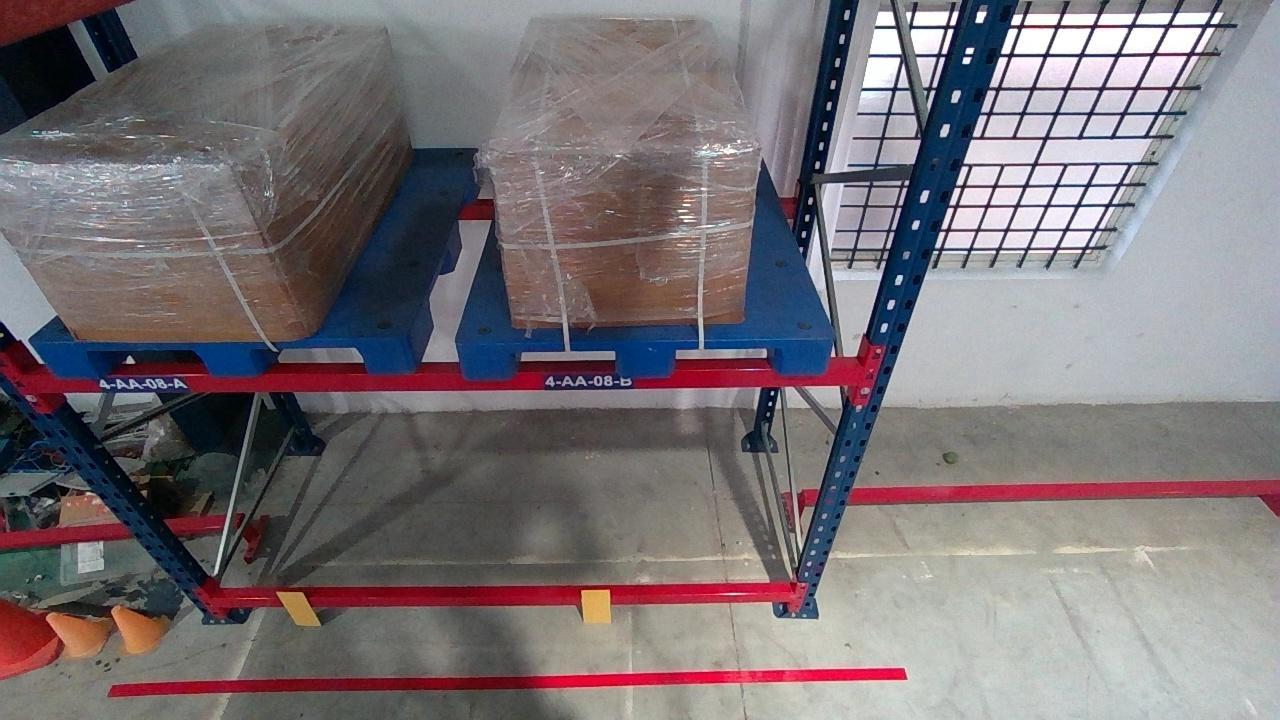h_rack: (19, 364, 864, 391), (210, 591, 795, 608)
orange_strip: (273, 591, 321, 626), (579, 588, 610, 623)
red_line: (101, 667, 908, 693)
small_pallet: (457, 338, 833, 377), (40, 339, 408, 376)
